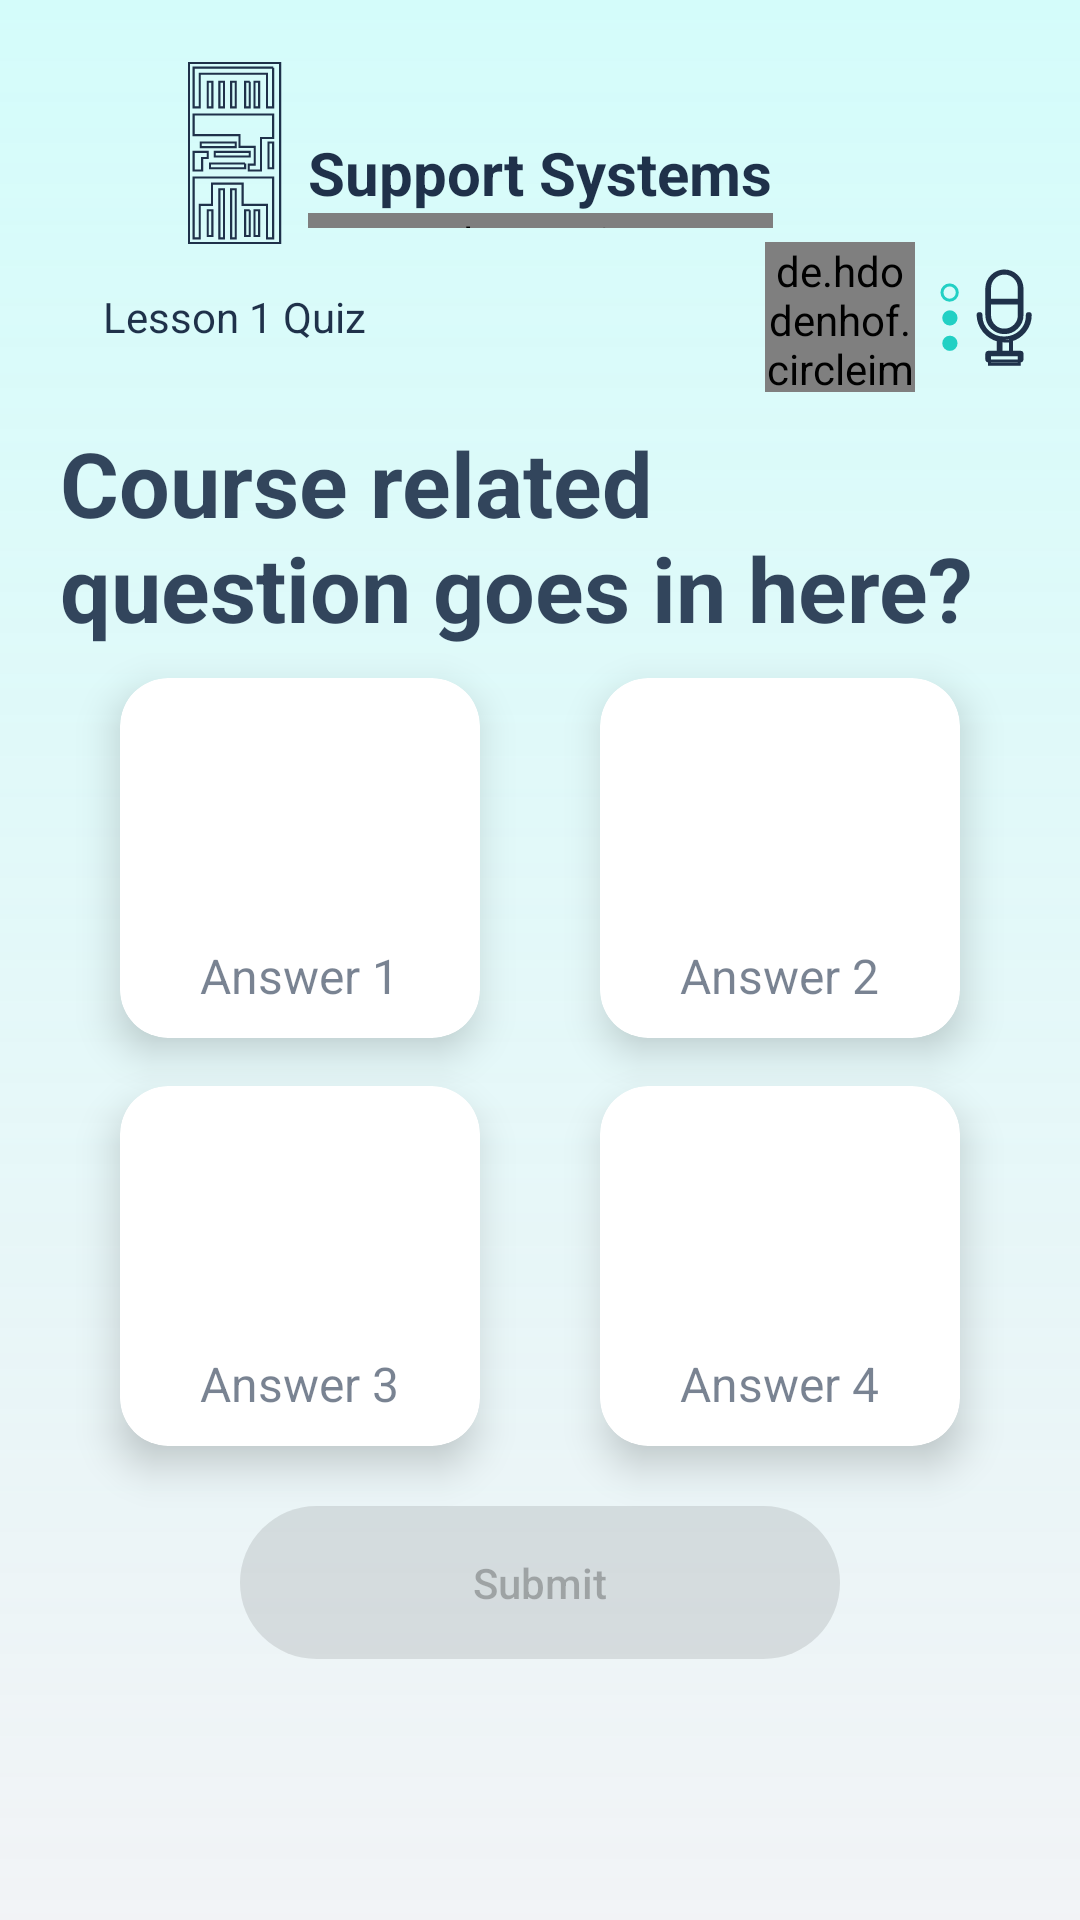

Named icons in this screenshot (1080*1920) and their centers, [x,y]:
microphone: [1004,317]
